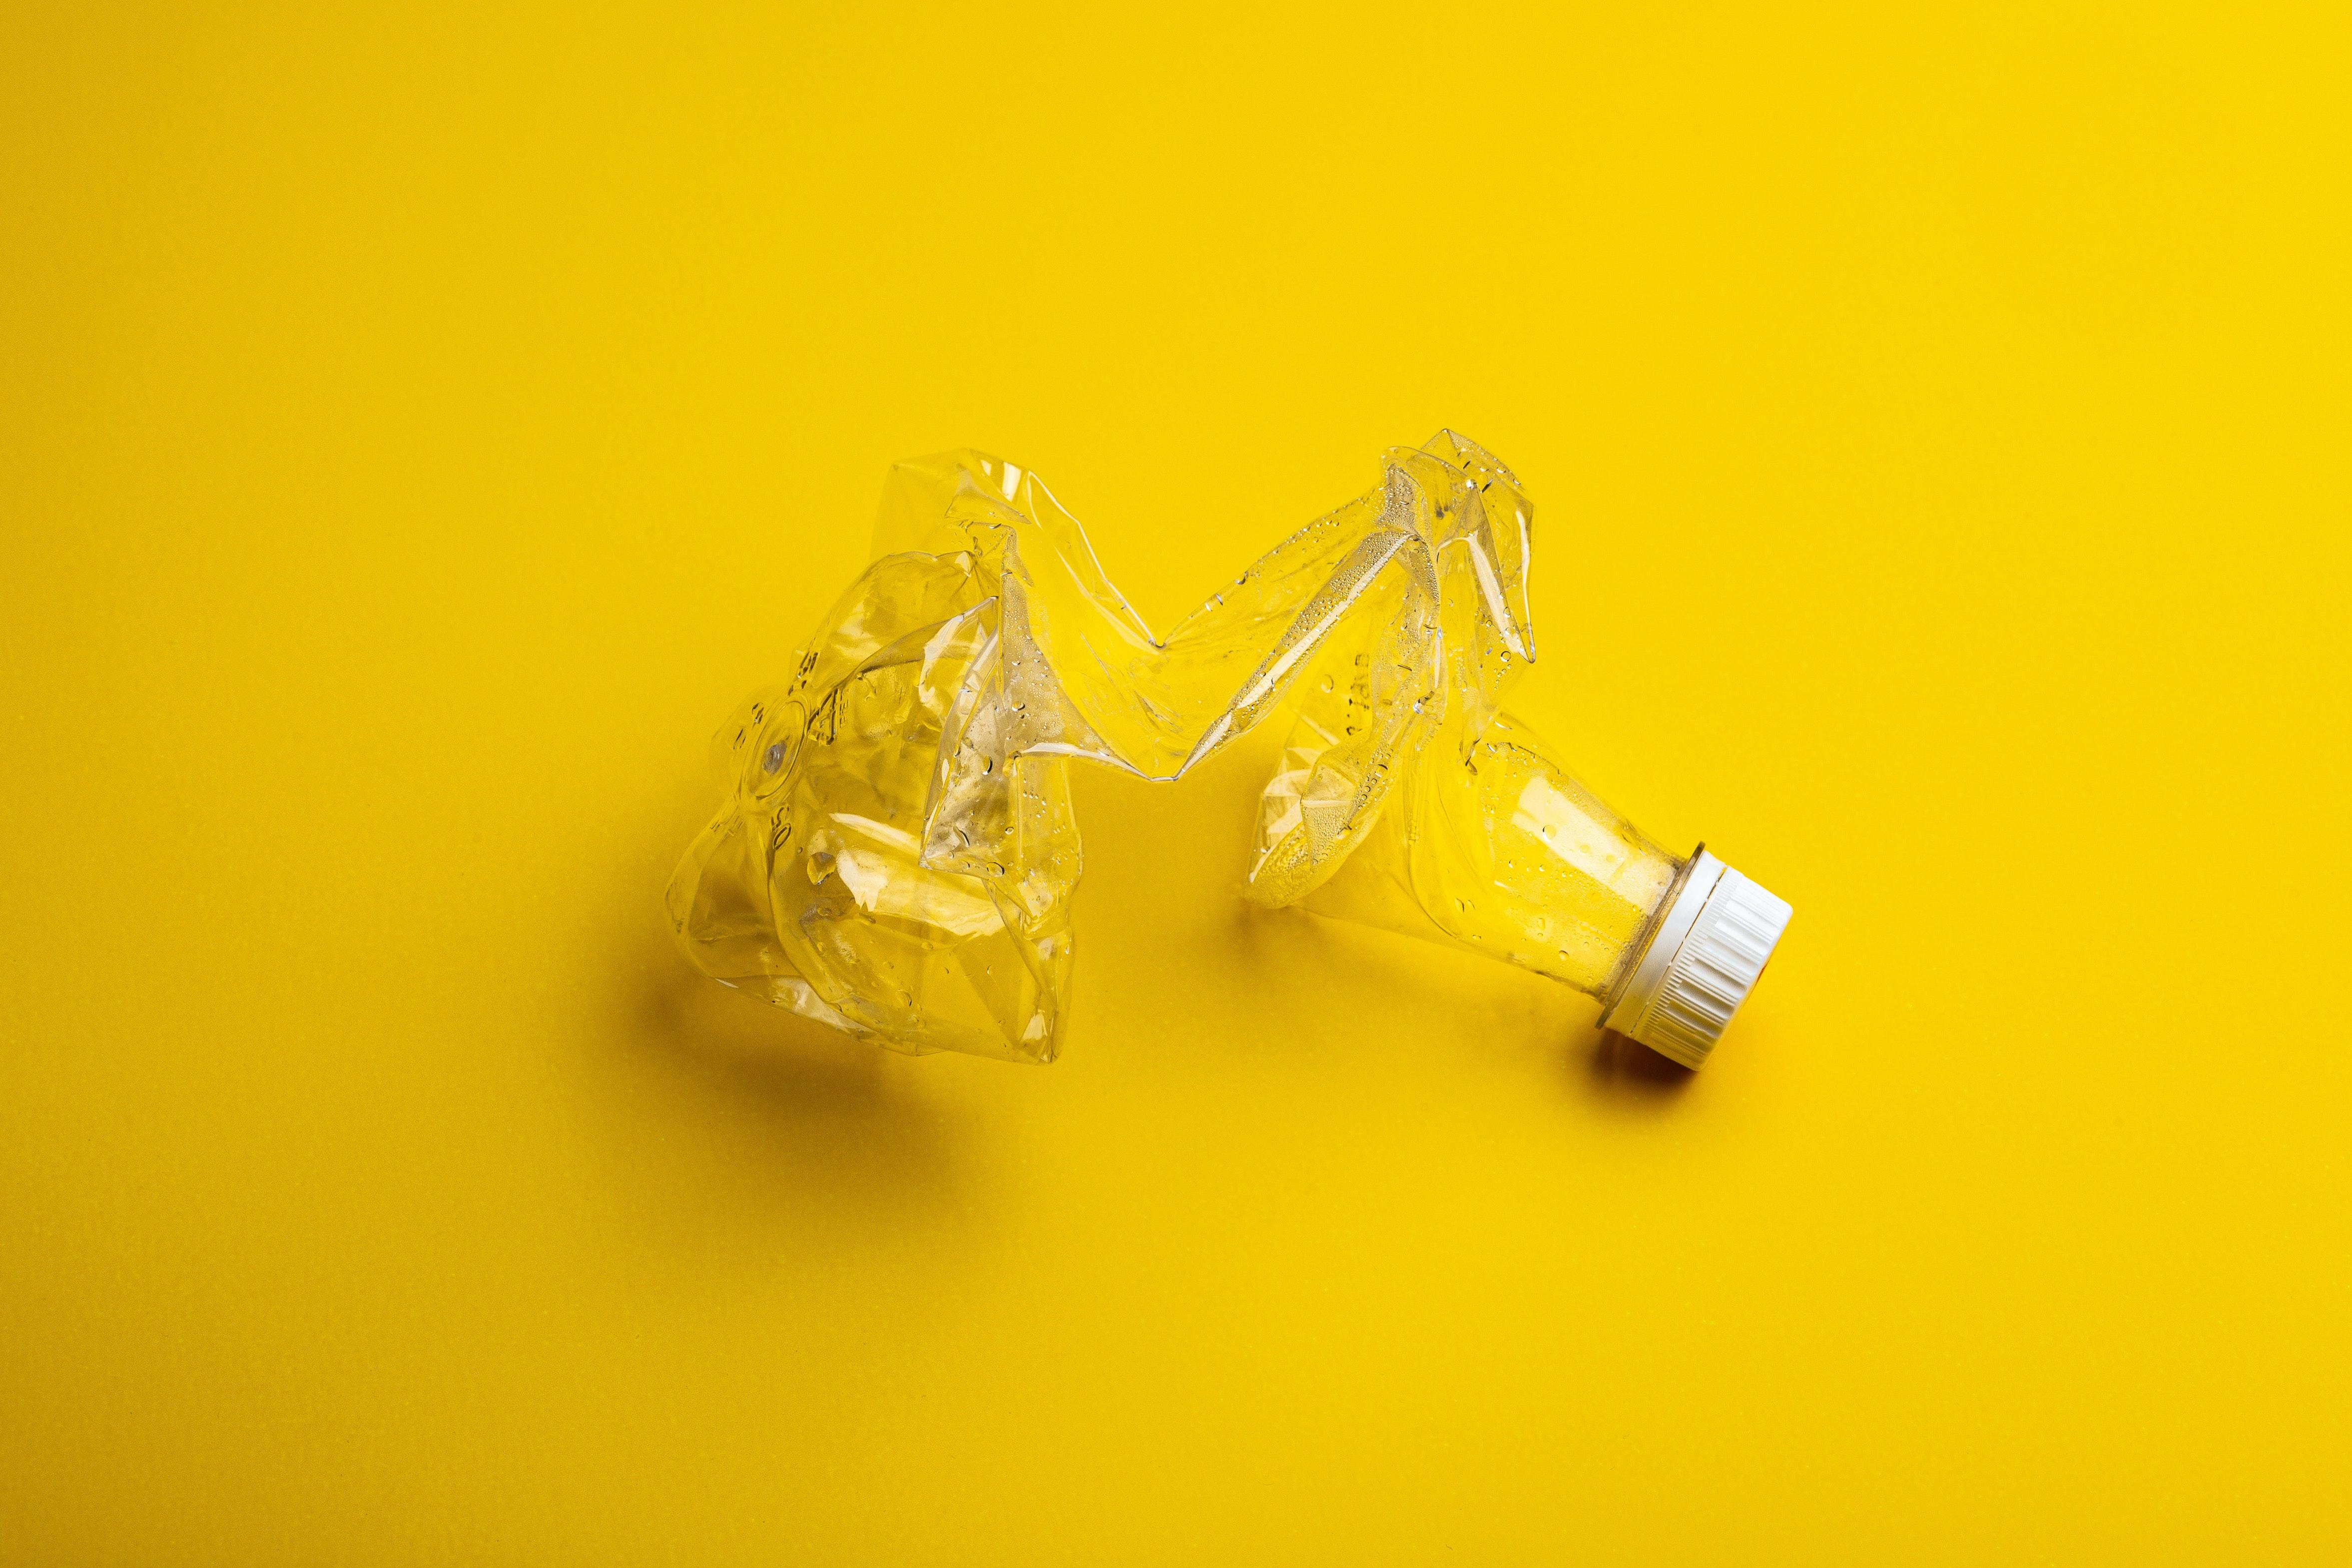bottle: (651, 361, 1859, 1174)
